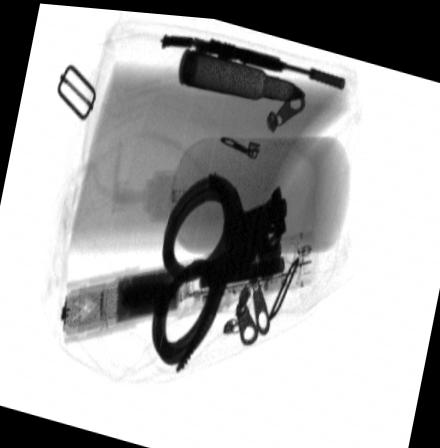Baton: (61, 236, 314, 341)
Bullet: (177, 42, 309, 95)
Gun: (161, 32, 346, 81)
HandCuffs: (149, 169, 286, 372)
